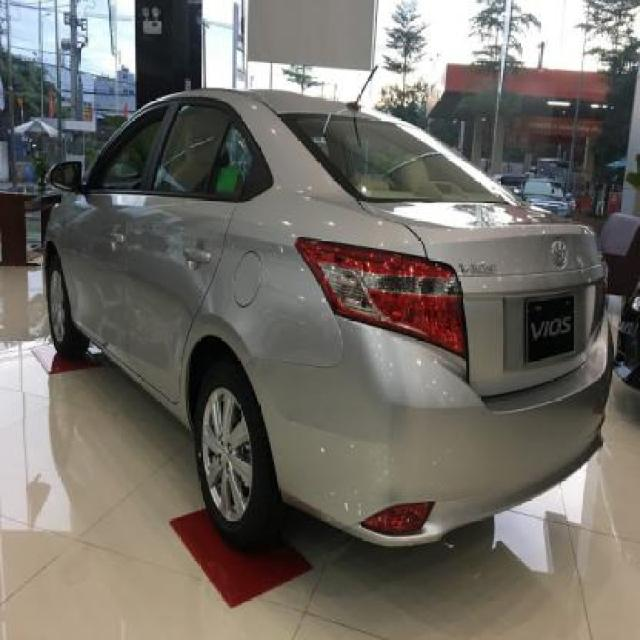ToyotaVios: (37, 80, 615, 551)
